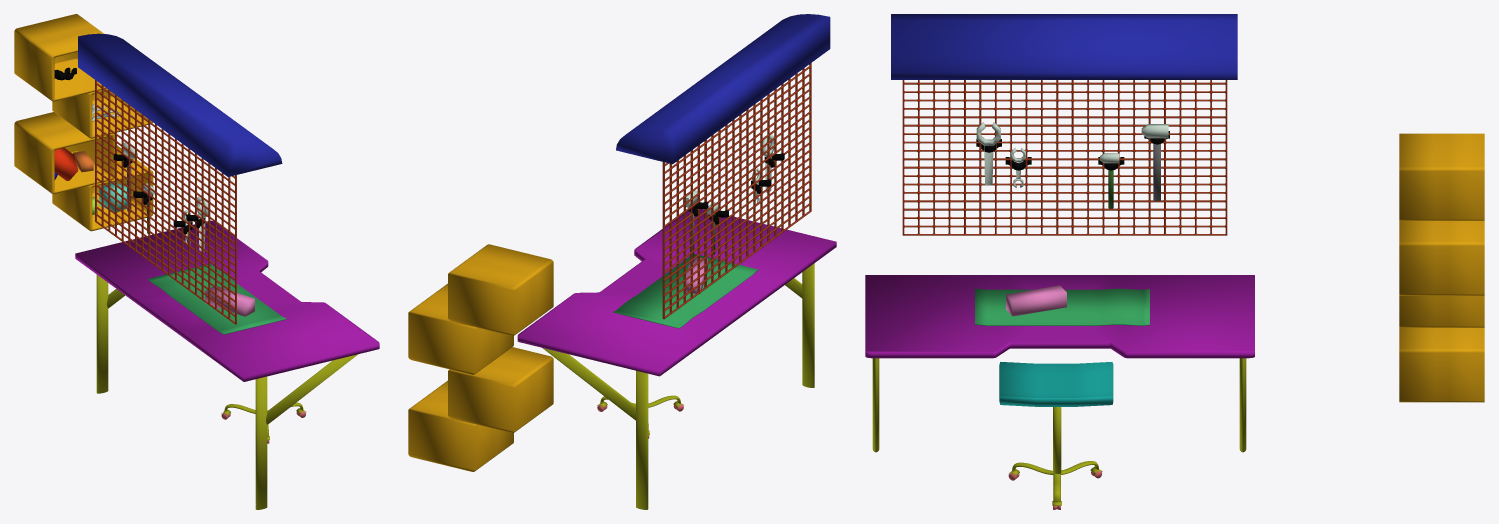
File: warsztat_lp.fbx
The picture shows the model from 3 angles, left to right: view 1: azimuth 30°, elevation 25°; view 2: azimuth 150°, elevation 25°; view 3: azimuth 270°, elevation 25°; orthographic projection. The views are drawn at different scales.
Parts seen in each view (by area): view 1: warsztat; view 2: warsztat; view 3: warsztat.
Boxes of the visible parts, x1=… form: warsztat: x1=14, y1=14, x2=379, y2=509; warsztat: x1=408, y1=14, x2=836, y2=509; warsztat: x1=865, y1=14, x2=1484, y2=509.
Size of the model in its own units: 90.81 by 210 by 281.
